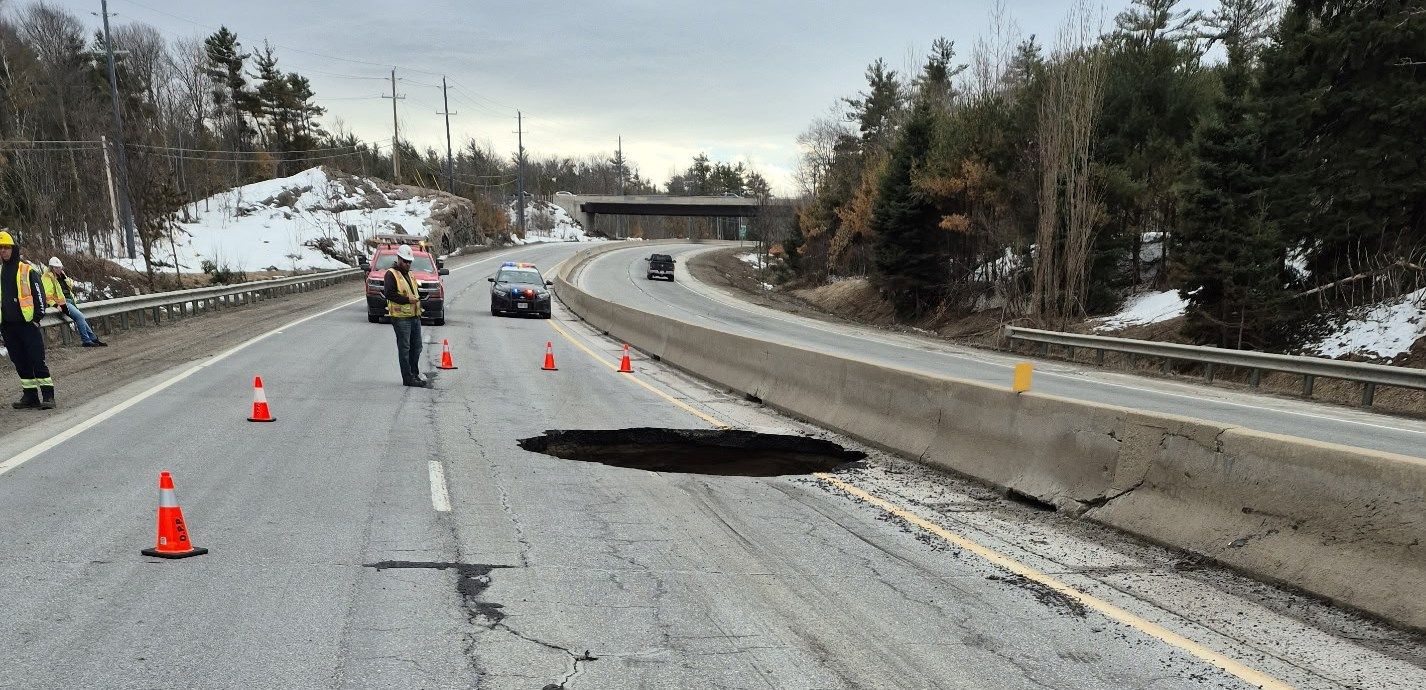Car: (482, 249, 553, 319), (639, 246, 677, 286)
Hole_in_the_road: (493, 403, 890, 514)
Person: (1, 226, 77, 414), (374, 247, 439, 384)
Road_cone: (141, 473, 211, 562), (238, 371, 289, 428), (613, 336, 639, 381), (533, 339, 559, 365)
Tree: (1171, 13, 1316, 340)
